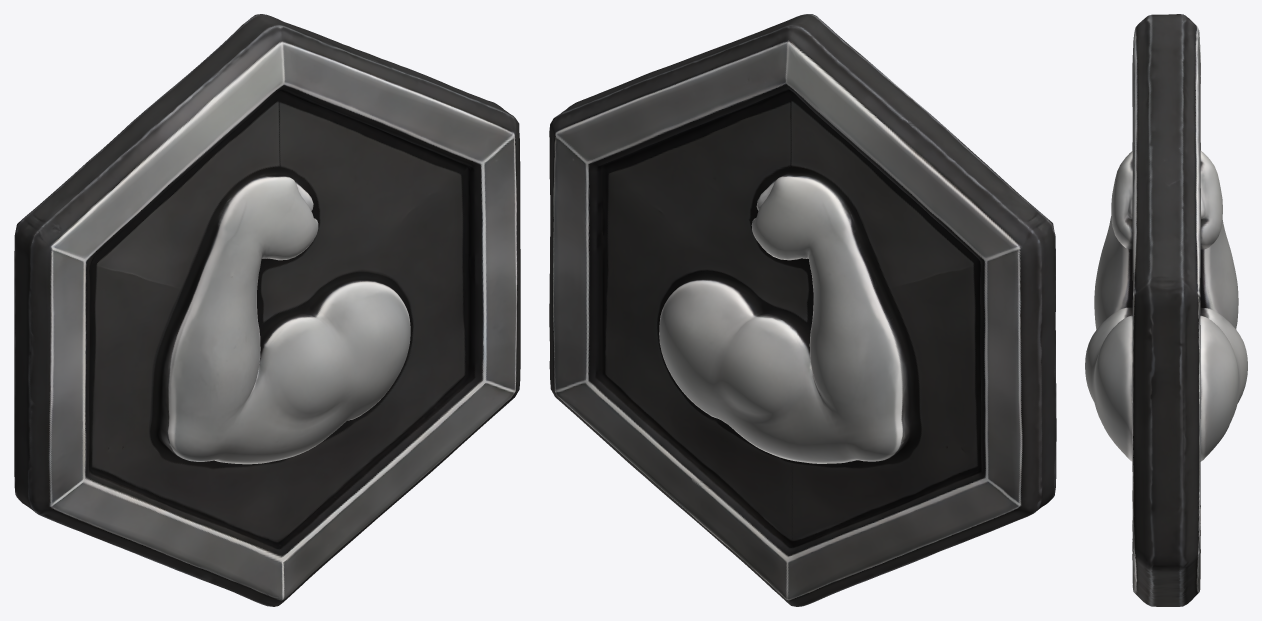
Rendered from iron.glb.
The picture shows the model from 3 angles, left to right: view 1: azimuth 30°, elevation 25°; view 2: azimuth 150°, elevation 25°; view 3: azimuth 270°, elevation 25°; orthographic projection.
Parts seen in each view (by area): view 1: model; view 2: model; view 3: model.
Boxes of the visible parts, box(x1,y1,x2,y2) form: model: box(14, 14, 520, 606); model: box(549, 14, 1056, 606); model: box(1085, 14, 1247, 606).
Bounding box in the file's own units: 1.68 × 1.9 × 0.4761.
Materials: 1 (1 with a texture image).
